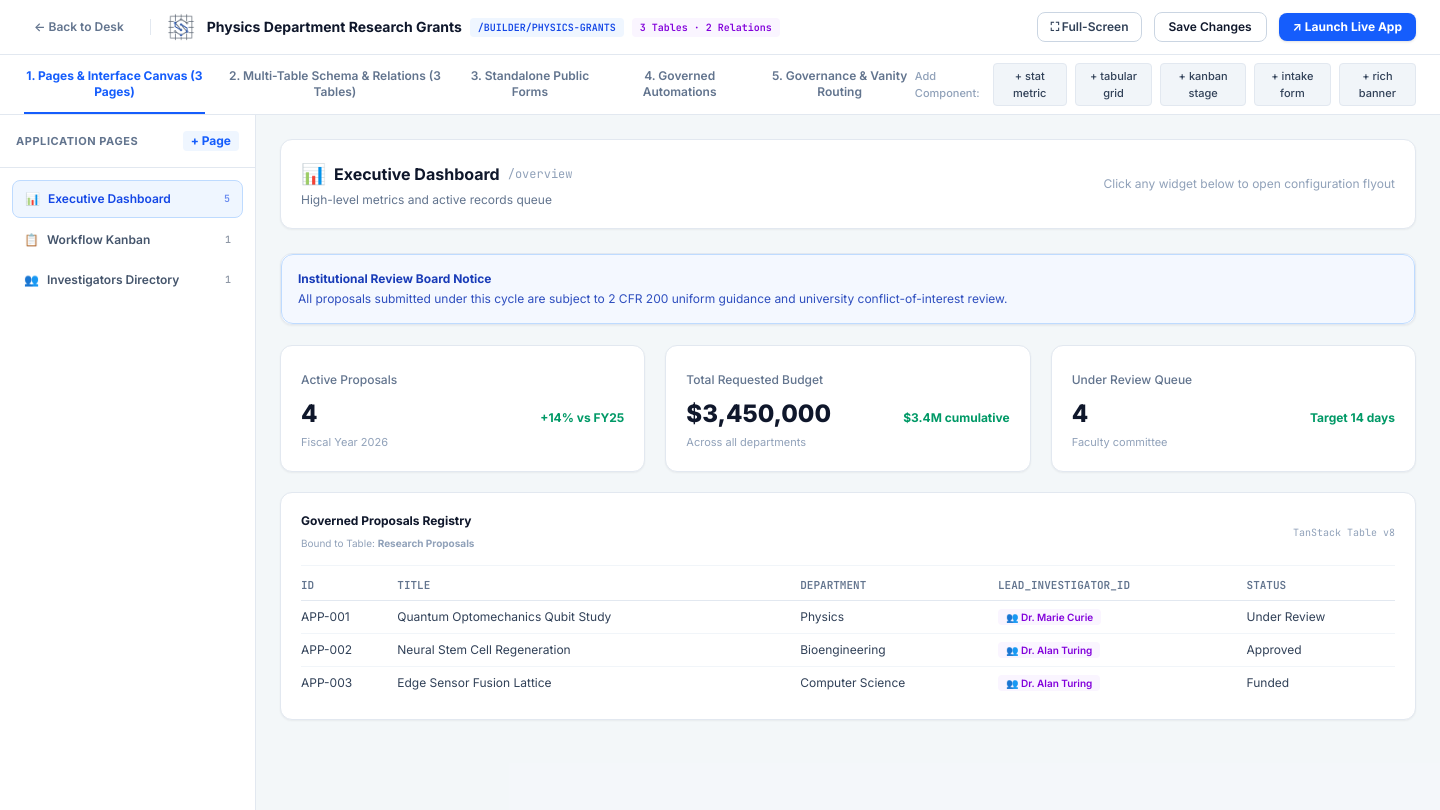
it: Milestone 2: Multi-View Engine & Data Shaping Usability › switches between Grid, Kanban, and Gallery views interactively in AppBuilder
The image size is (1440, 810).
// Switch to Data tab
Click the button with test id "tab-btn-data" at (335, 84), box [229,56,441,114]
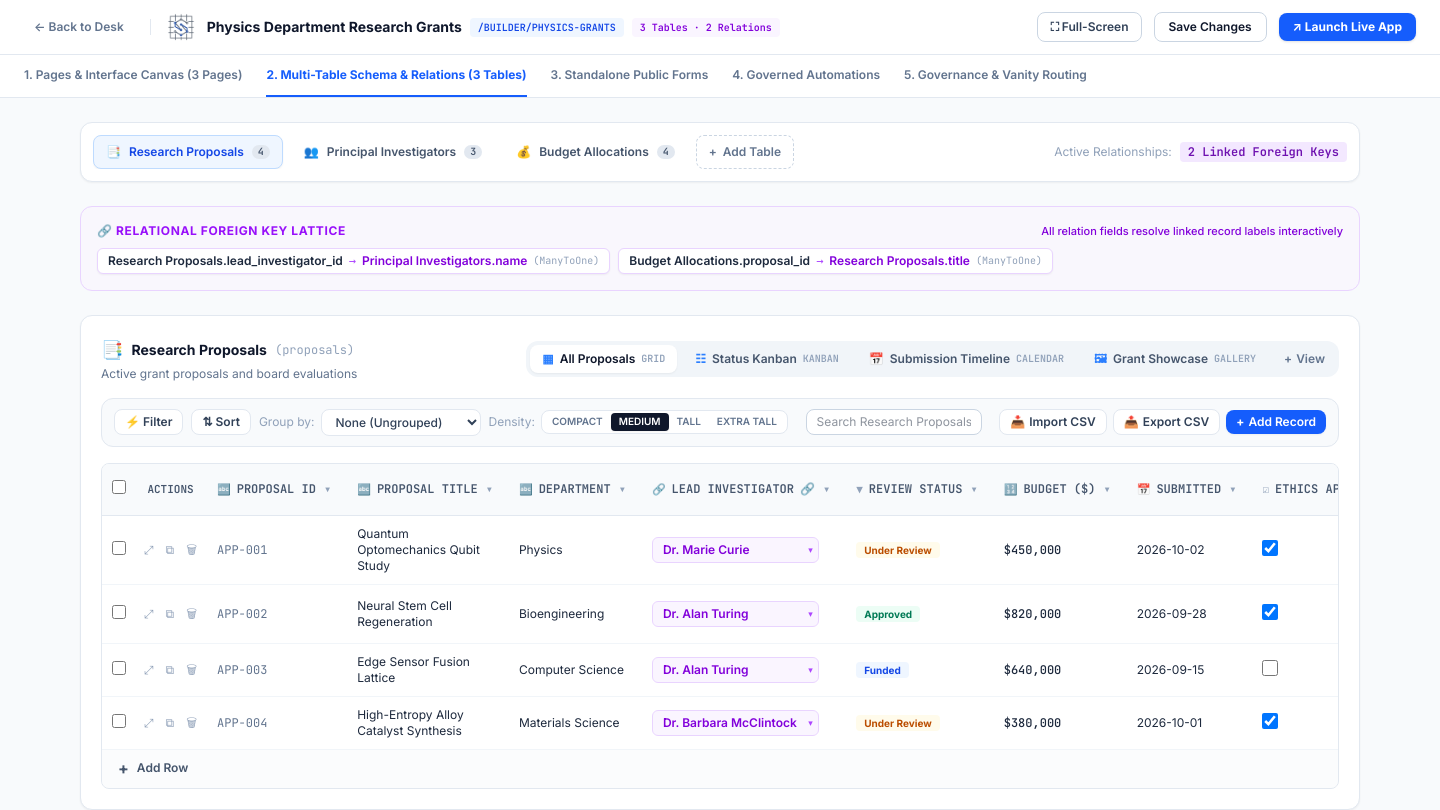
Expected: the button with test id "view-tab-view-proposals-grid" is shown, [530,344,677,372]
Expected: the button with test id "view-tab-view-proposals-kanban" is shown
Expected: the button with test id "view-tab-view-proposals-calendar" is shown, [857,344,1076,372]
// Switch to Kanban View
Click the button with test id "view-tab-view-proposals-kanban" at (767, 358), box [683,344,851,372]
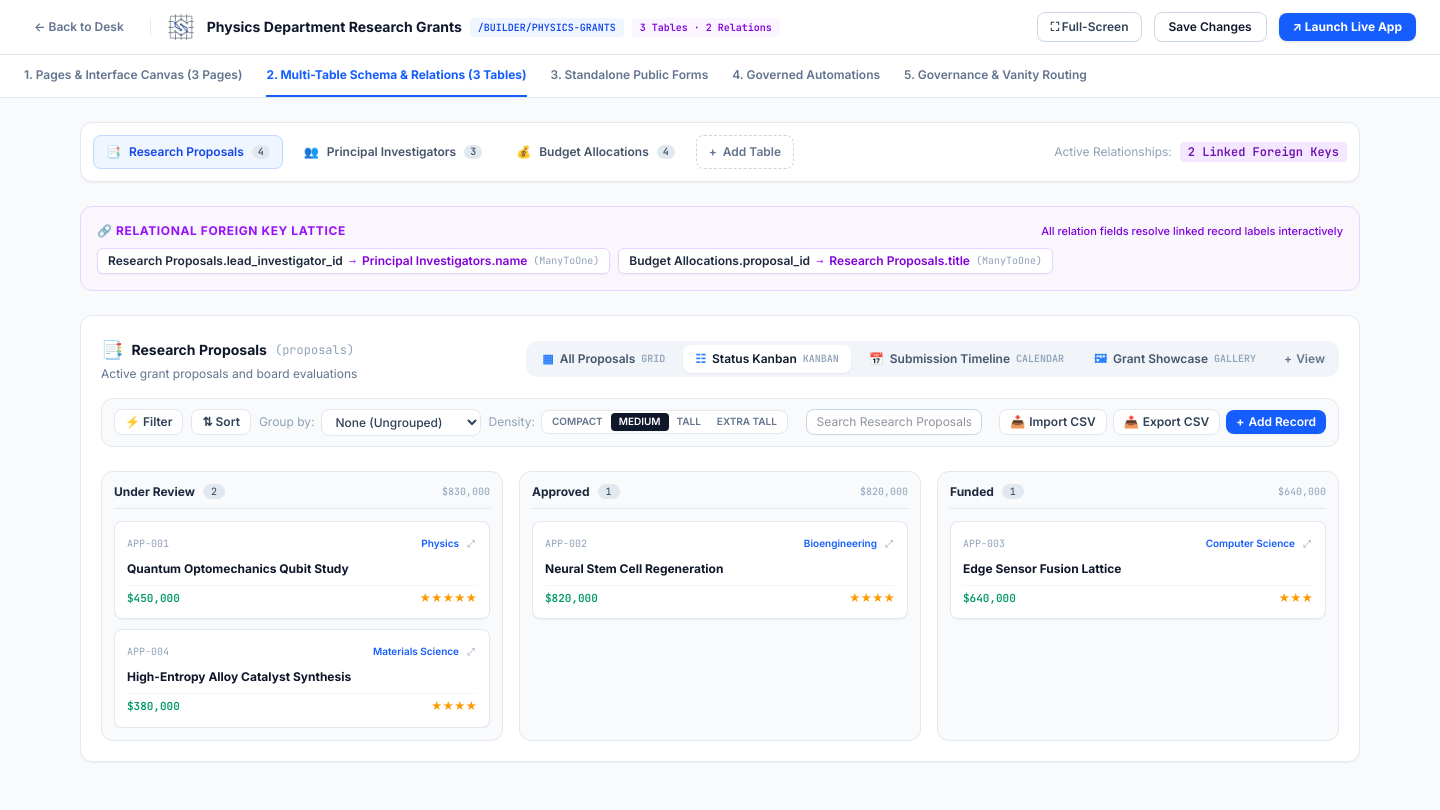
Expected: the element with test id "view-kanban-board" is shown, [101,462,1339,740]
Expected: the element with test id "kanban-column-under-review" is shown, [101,470,503,740]
Expected: the element with test id "kanban-column-approved" is shown, [519,470,921,740]
// Switch to Gallery View
Click the button with test id "view-tab-view-proposals-gallery" at (1175, 358), box [1082,344,1268,372]
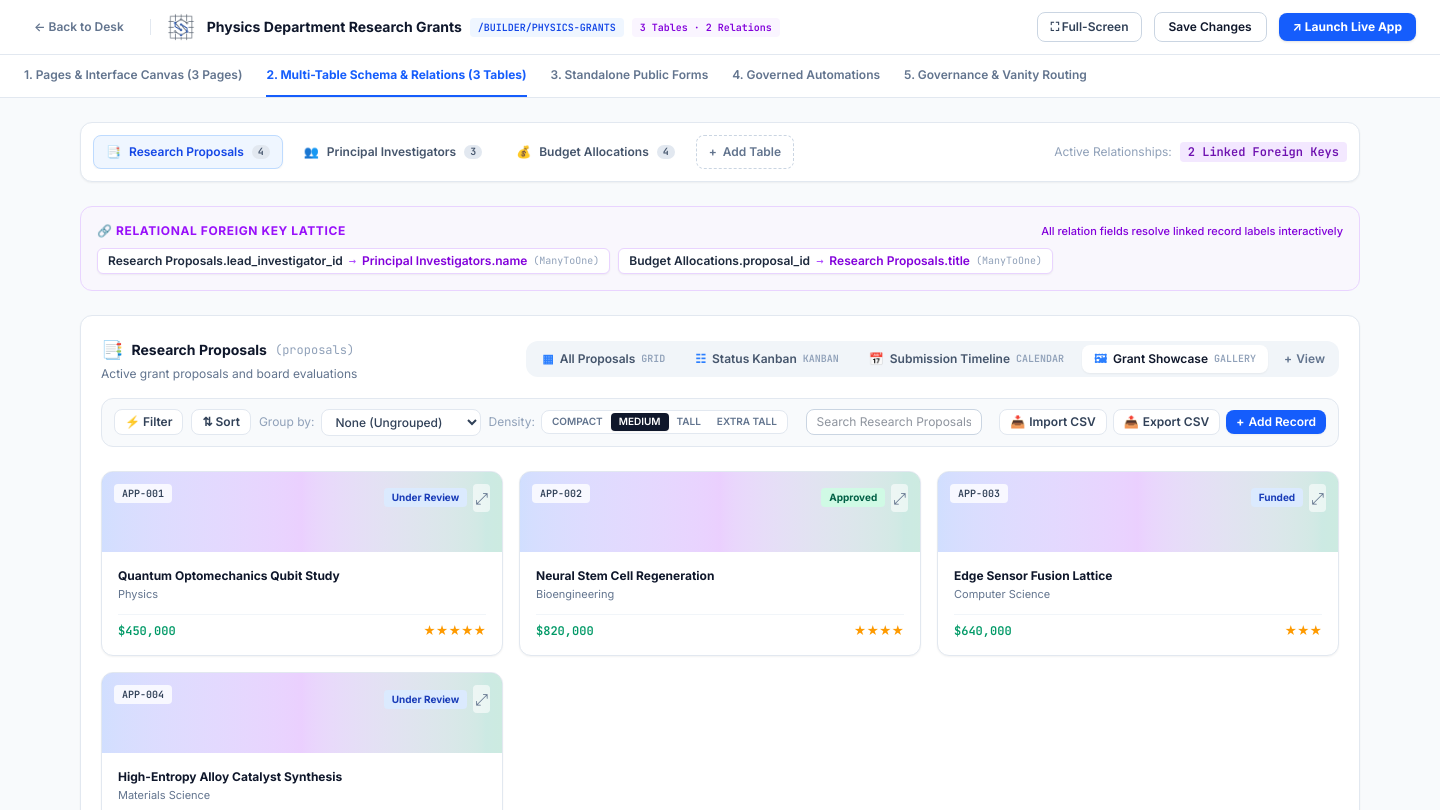
Expected: the element with test id "gallery-card-APP-001" is shown, [101,470,503,656]
// Switch back to Grid View
Click the button with test id "view-tab-view-proposals-grid" at (604, 358), box [530,344,677,372]
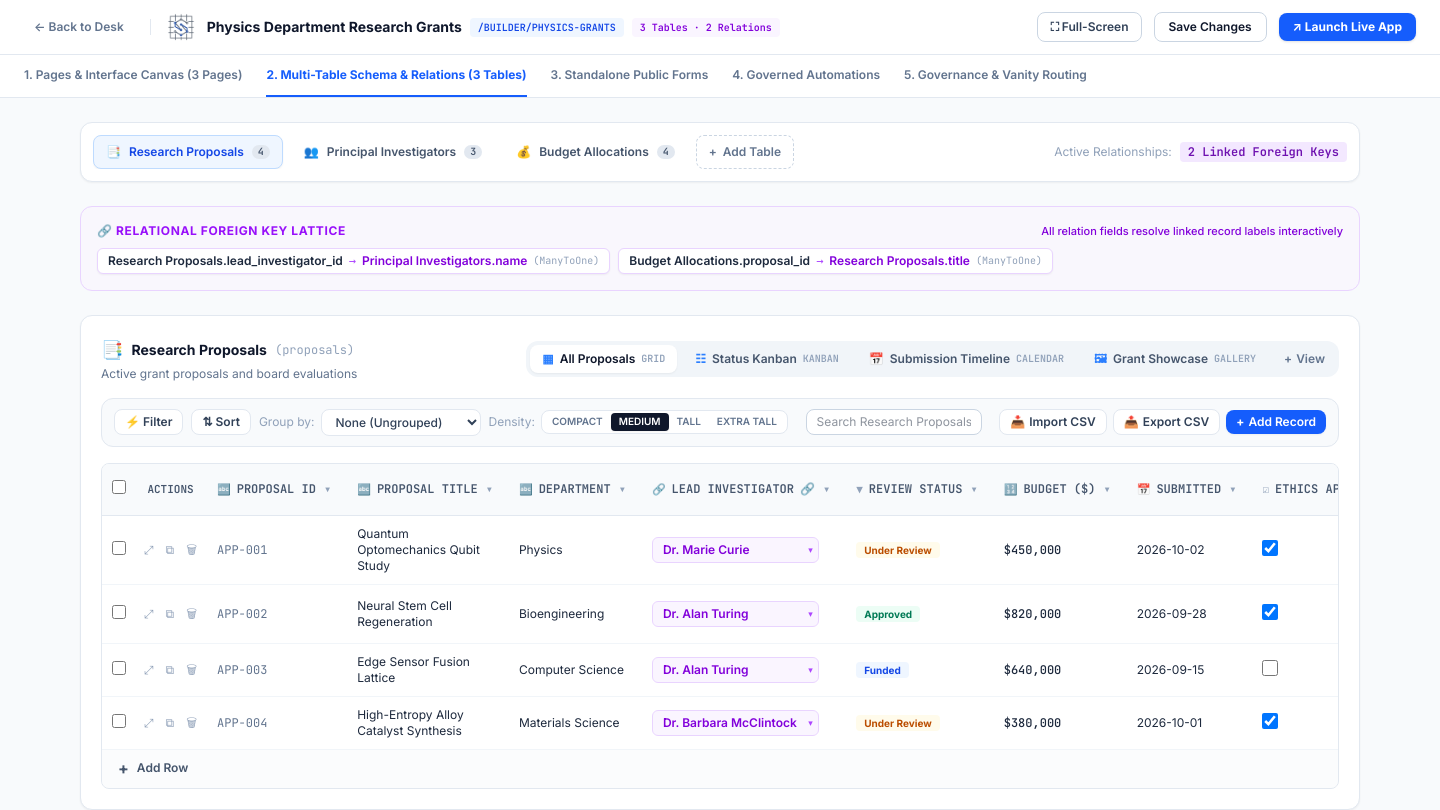
Expected: the element with test id "view-grid-table" is shown, [101,462,1339,790]
